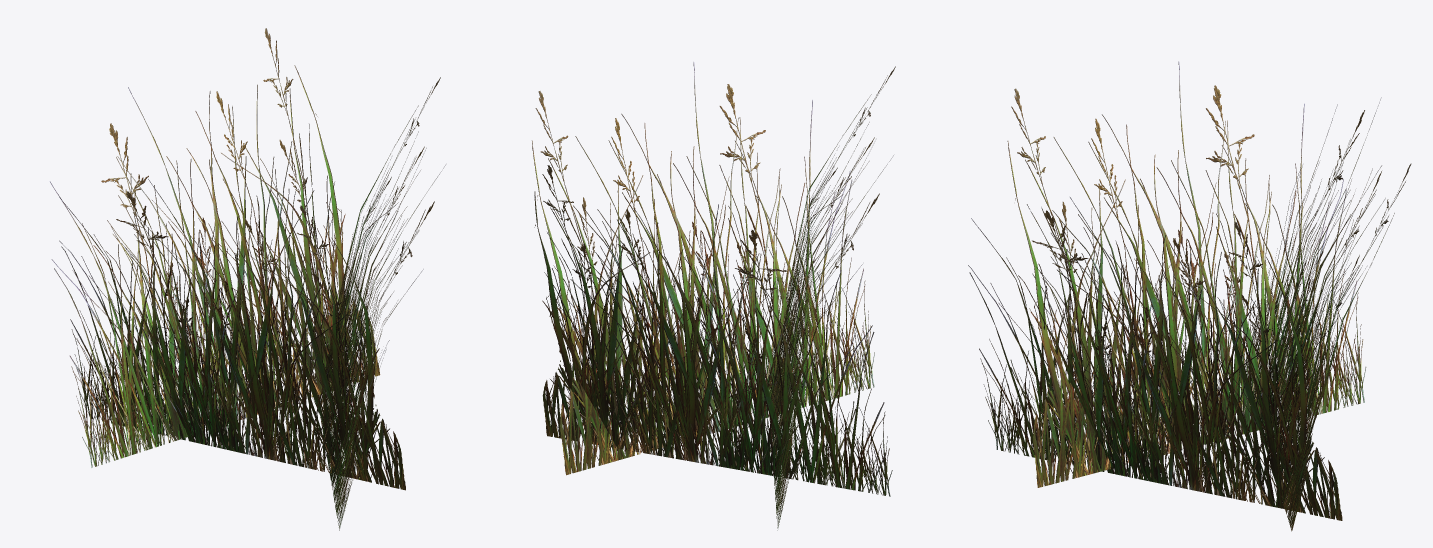
The model's file is Grass_1b.fbx.
3 views of the same model, side by side, from view 1: azimuth 30°, elevation 25°; view 2: azimuth 150°, elevation 25°; view 3: azimuth 270°, elevation 25° (orthographic). The views are drawn at different scales.
Parts seen in each view (by area): view 1: Grass_1b; view 2: Grass_1b; view 3: Grass_1b.
Part boxes in pixels (<box>): Grass_1b: <box>49,28,445,530</box>; Grass_1b: <box>532,62,895,530</box>; Grass_1b: <box>968,61,1411,531</box>.
Size of the model in its own units: 164 by 126 by 159.
